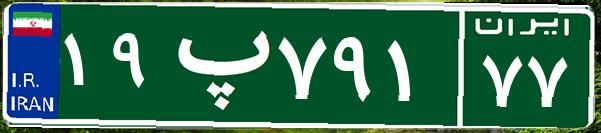1: (385, 28, 445, 110), (57, 26, 110, 107)
7: (273, 28, 330, 110), (475, 38, 525, 113), (525, 38, 570, 115)
9: (330, 28, 385, 110), (110, 28, 158, 105)
پ: (158, 15, 273, 115)
